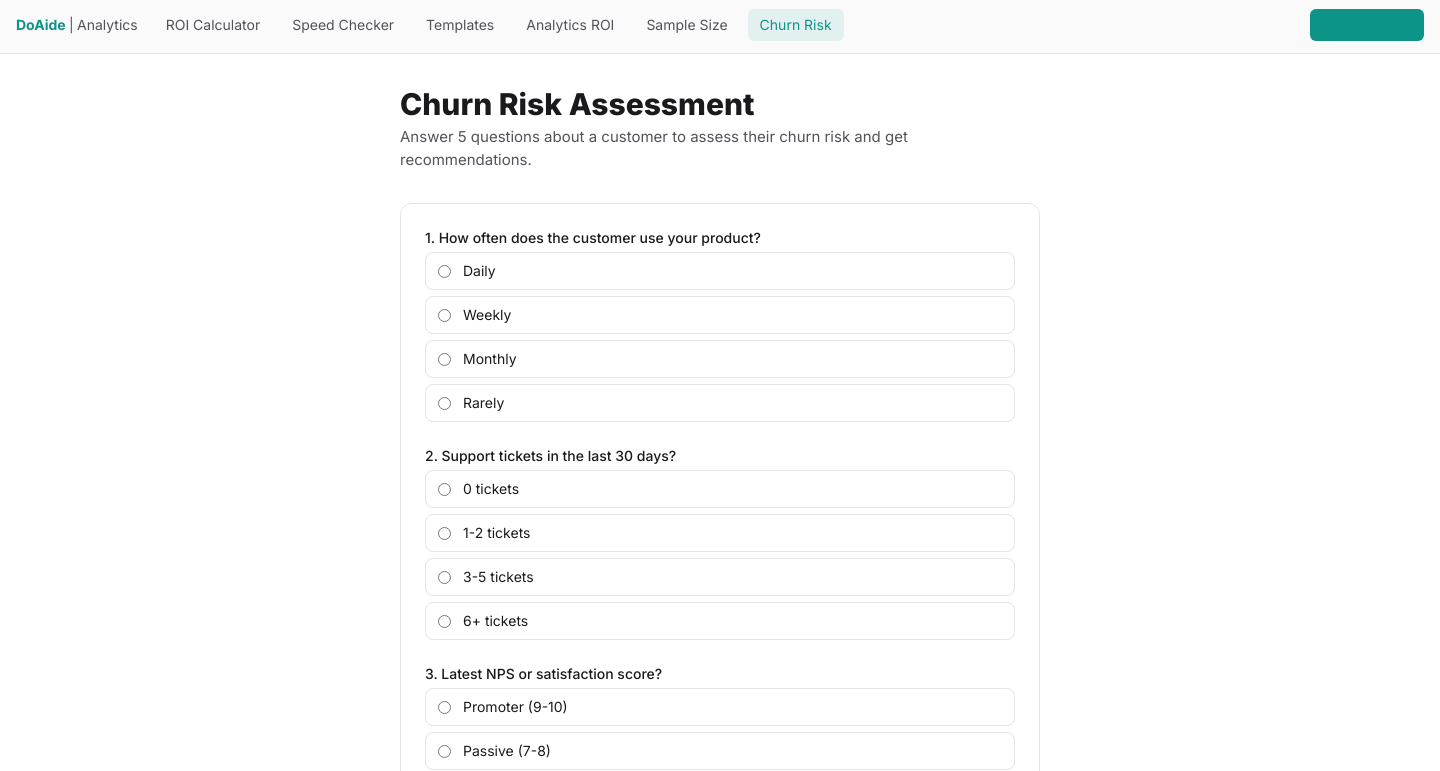
Test: ChurnPredictor › shows result after answering all questions and submitting
Click the radio button labelled "Daily".
click(444, 271)  # box [438,264,451,278]
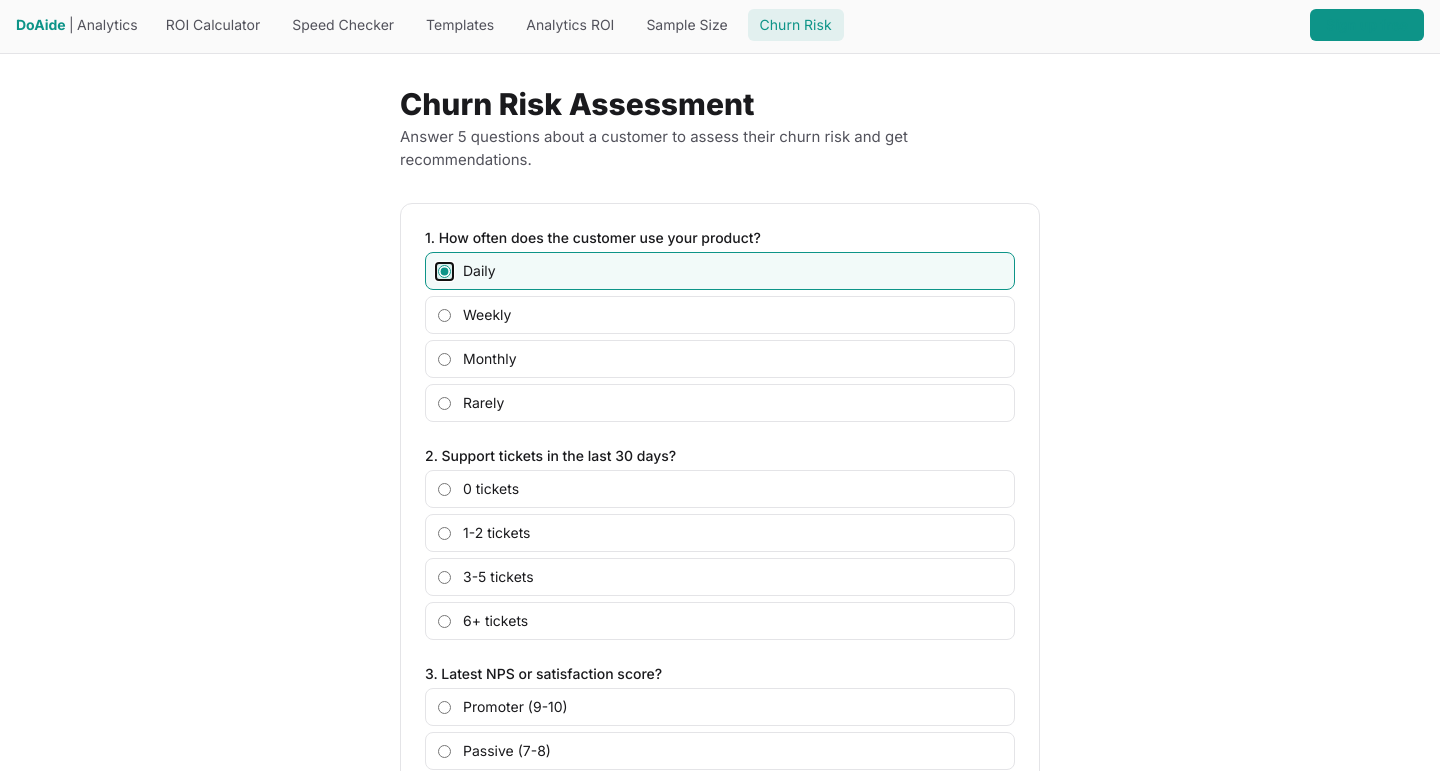
Click the radio button labelled "0 tickets".
click(444, 489)  # box [438,482,451,496]
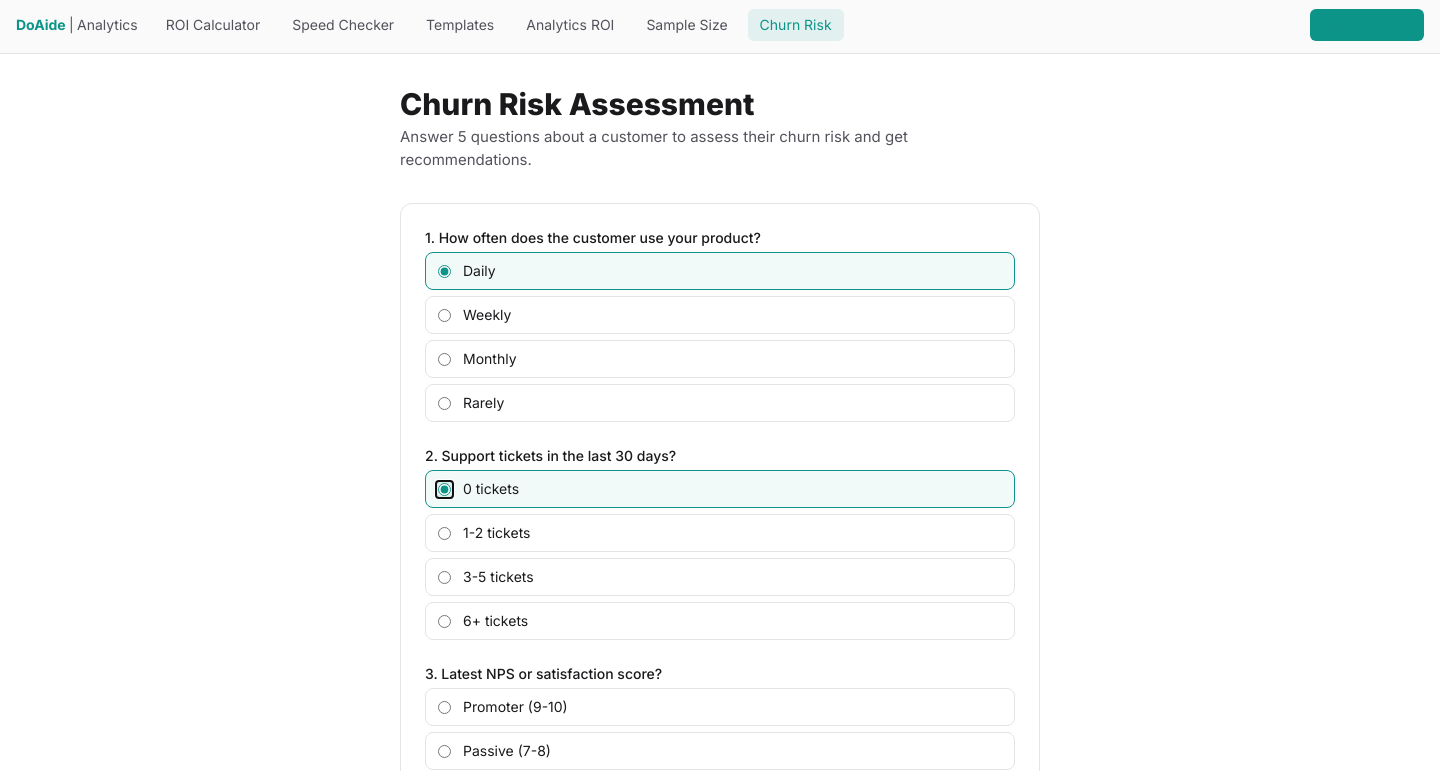
Click the radio button labelled "Promoter (9-10)".
click(444, 707)  # box [438,700,451,714]
(page scrolled)
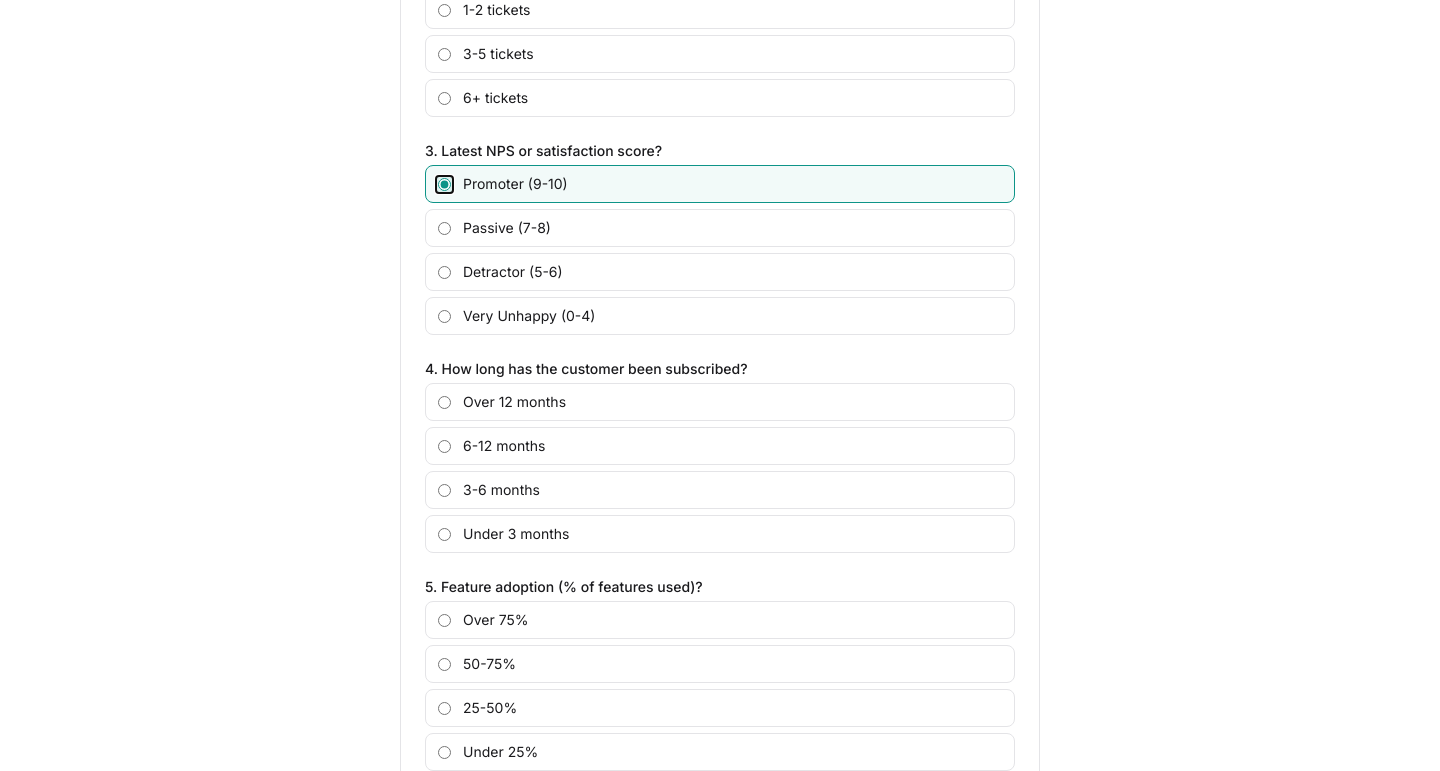
Click the radio button labelled "Over 12 months".
click(444, 402)  # box [438,396,451,408]
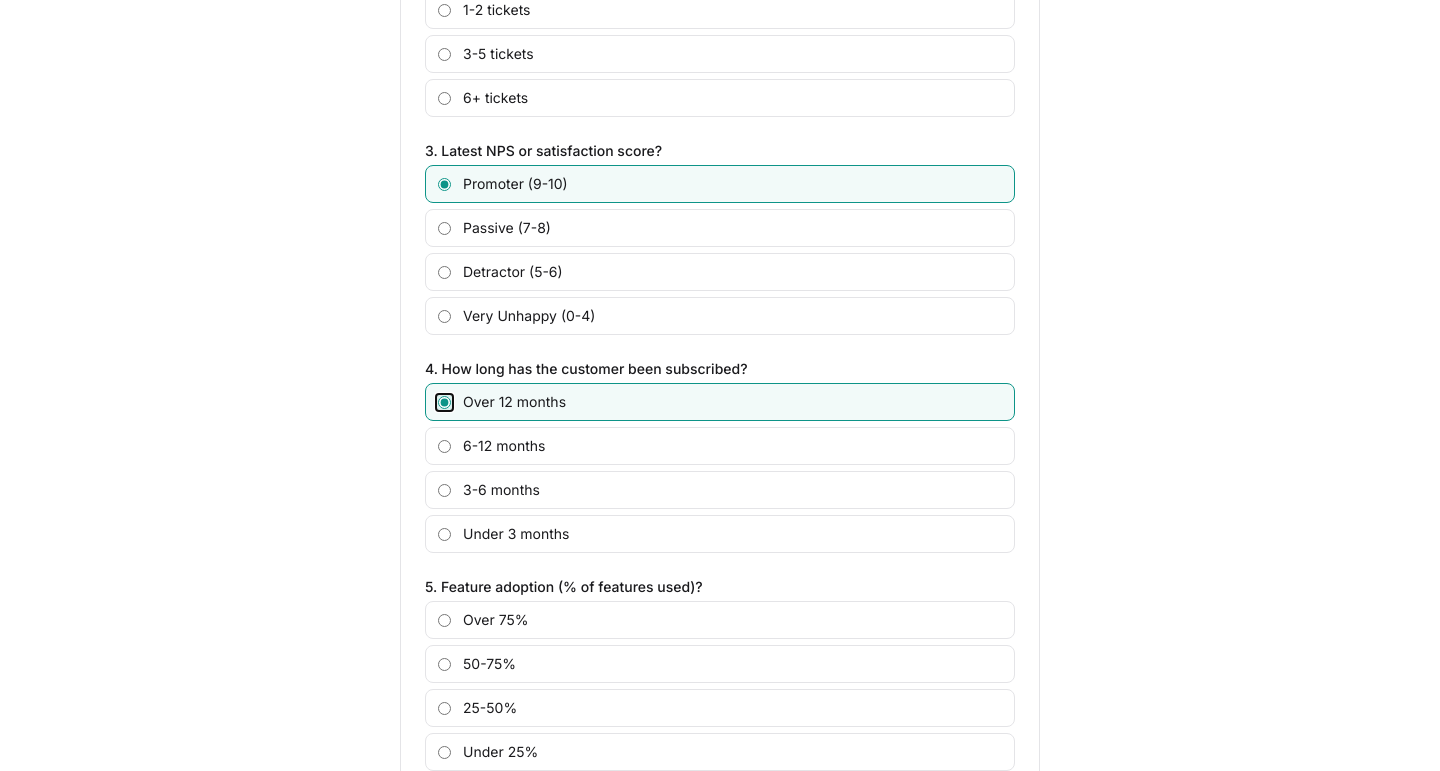
Click the radio button labelled "Over 75%".
click(444, 620)  # box [438,614,451,626]
(page scrolled)
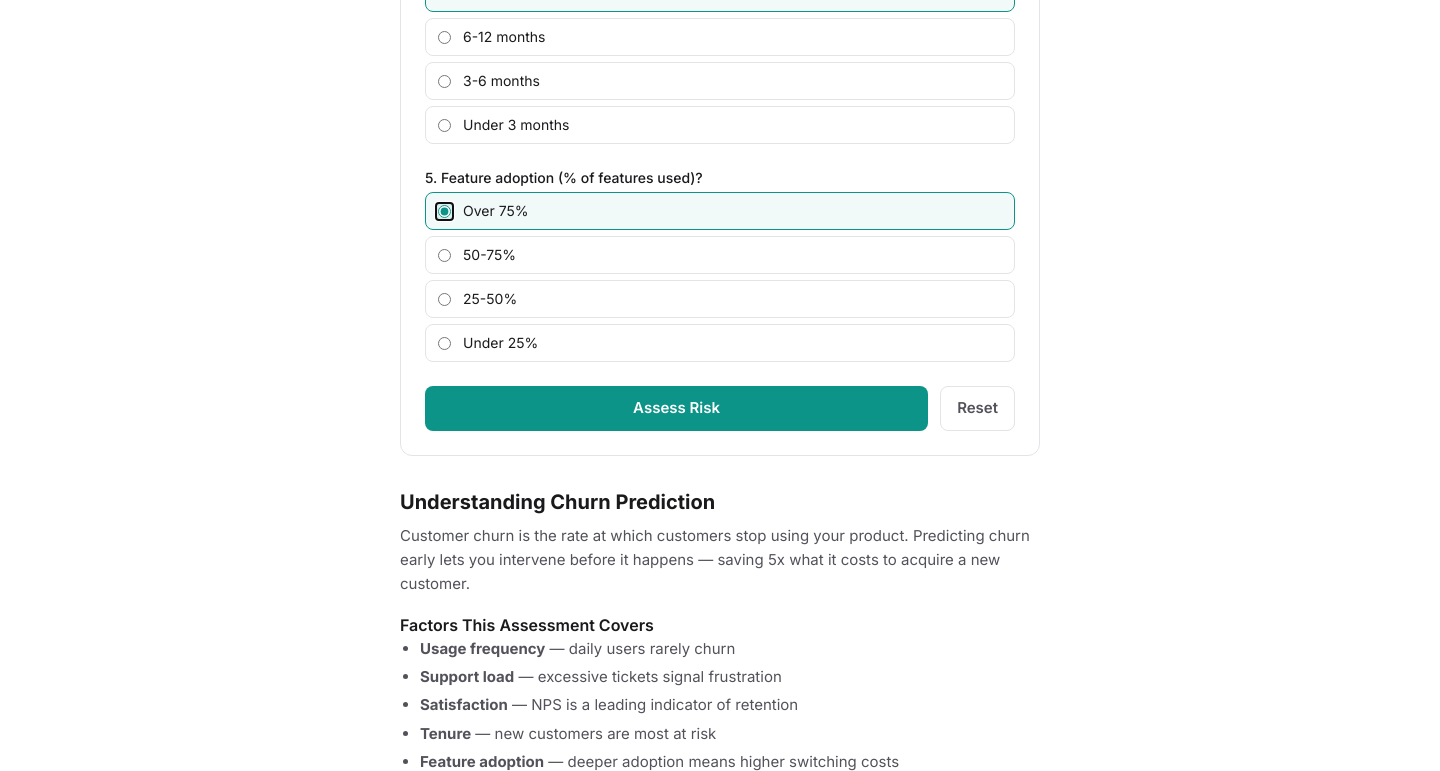
Click the button "Assess Risk".
click(677, 408)  # box [425,386,928,430]
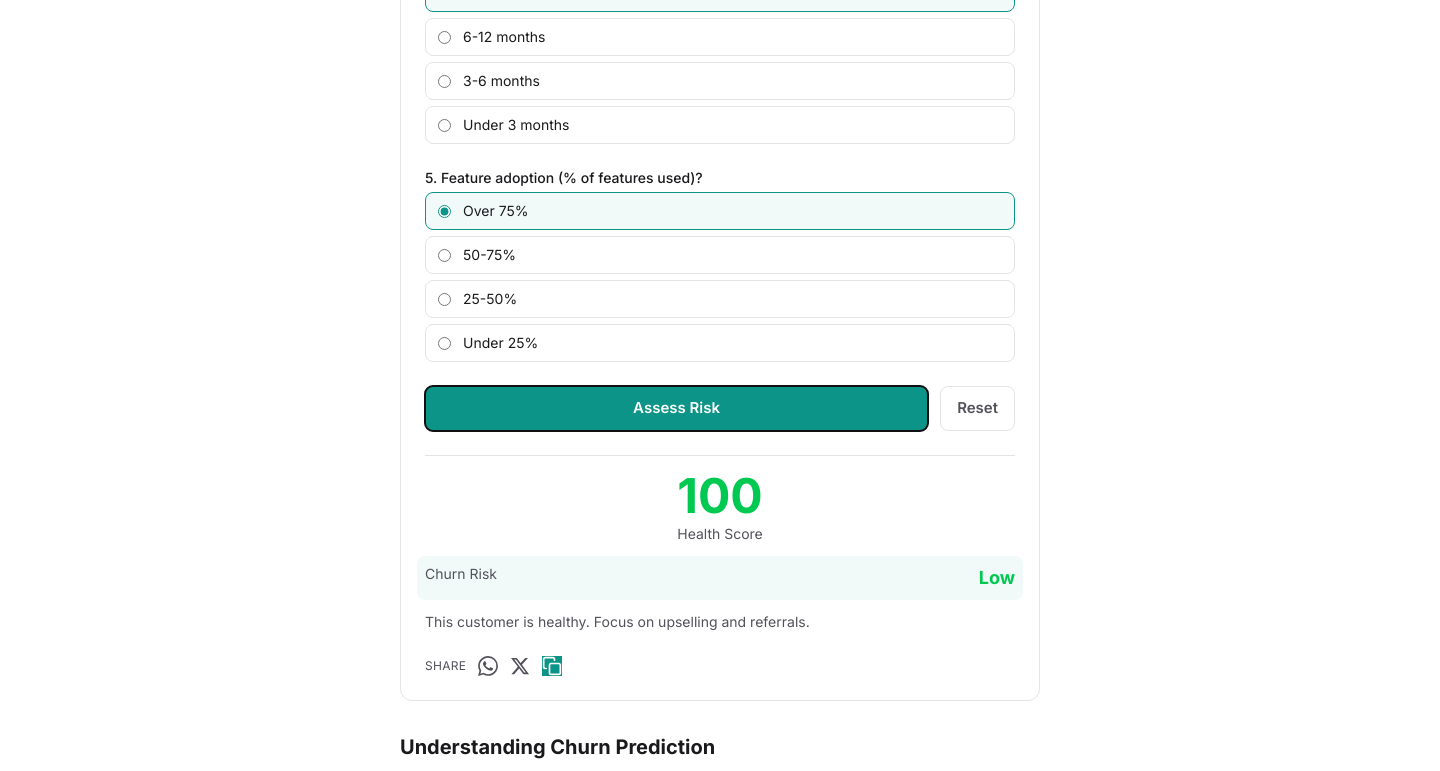
Now the text "Health Score" is shown, box [677,524,763,542]
